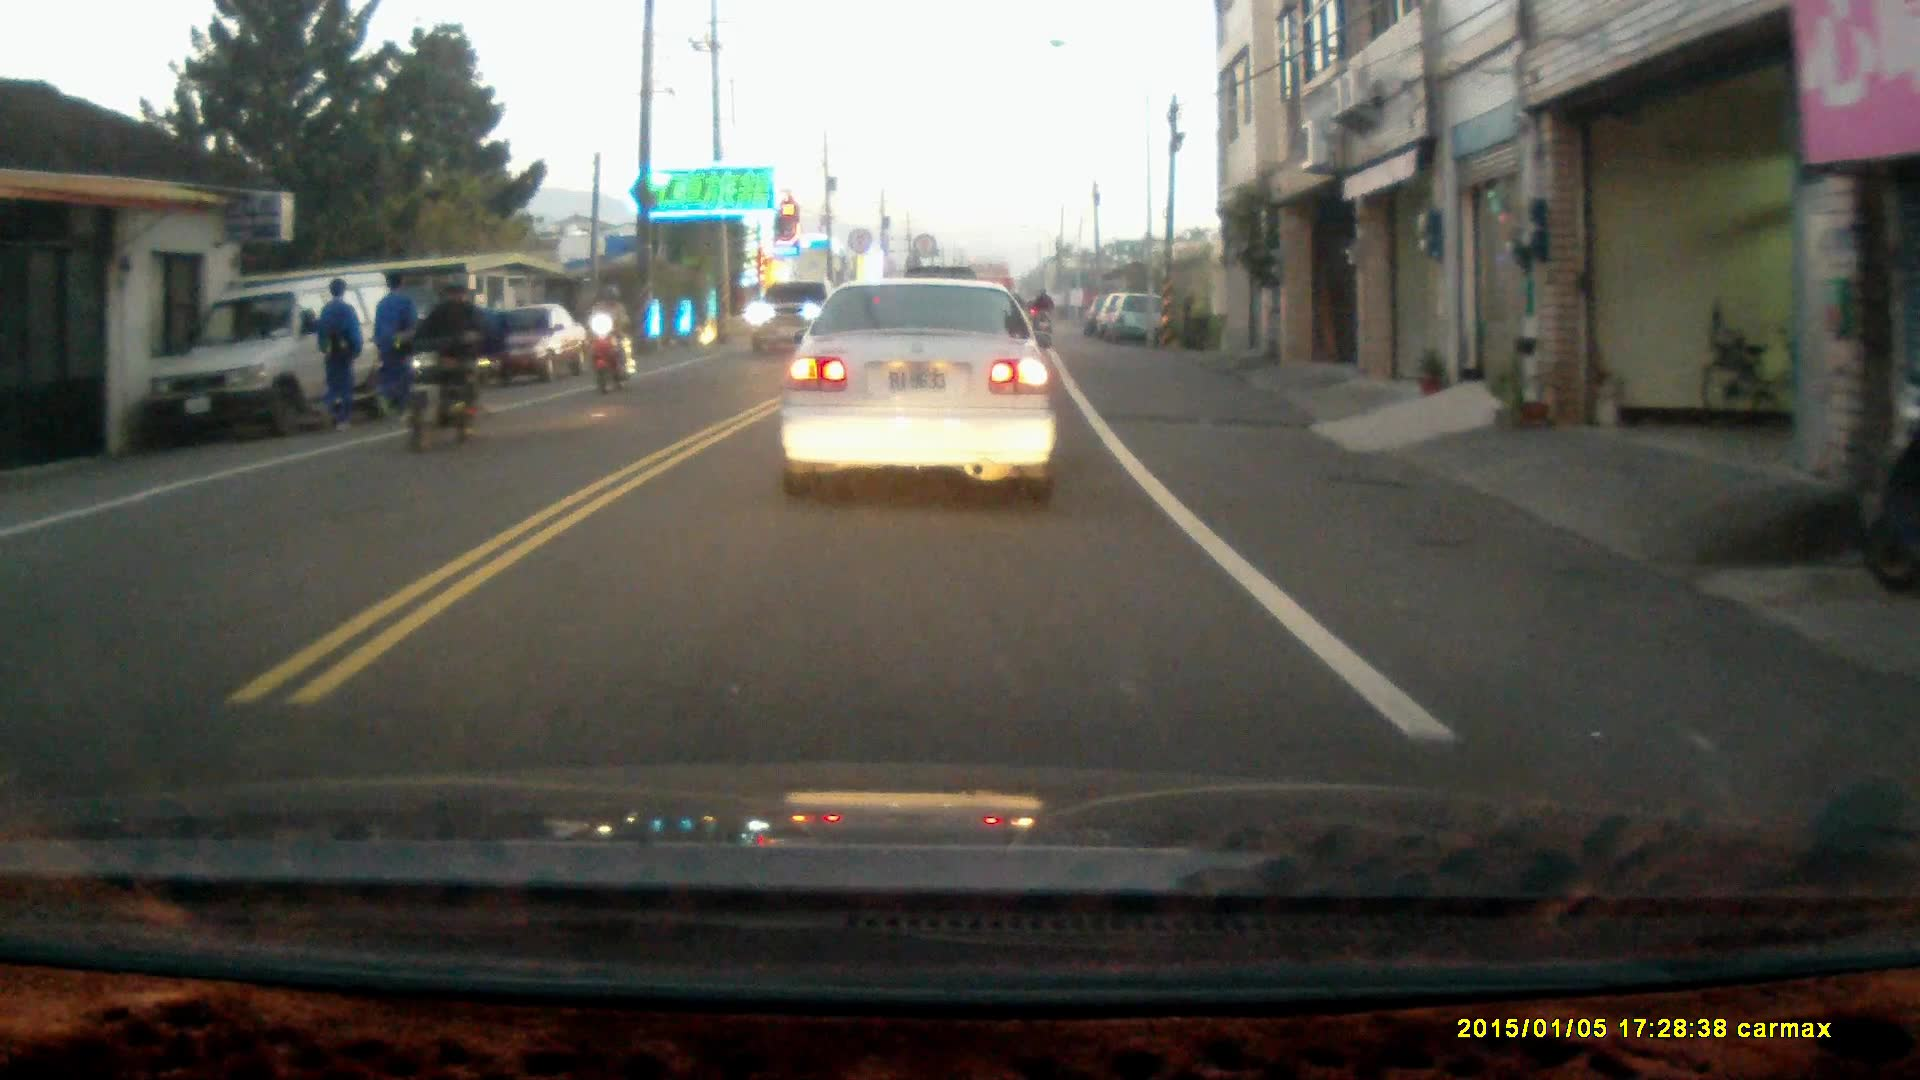pedestrian: (366, 266, 419, 426), (313, 278, 361, 430)
rider: (391, 270, 508, 453), (587, 285, 636, 394)
vehicle: (779, 278, 1061, 509), (148, 275, 408, 440), (450, 306, 589, 388), (742, 278, 843, 360), (1105, 298, 1173, 347)
